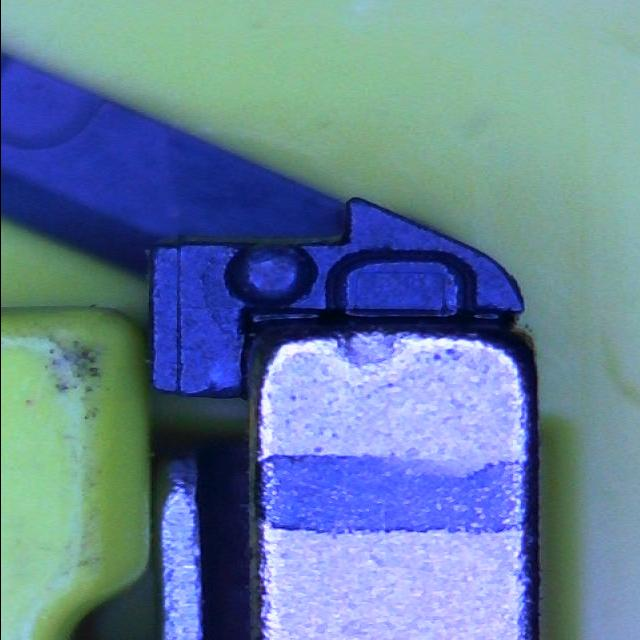lacking: (324, 247, 478, 325)
